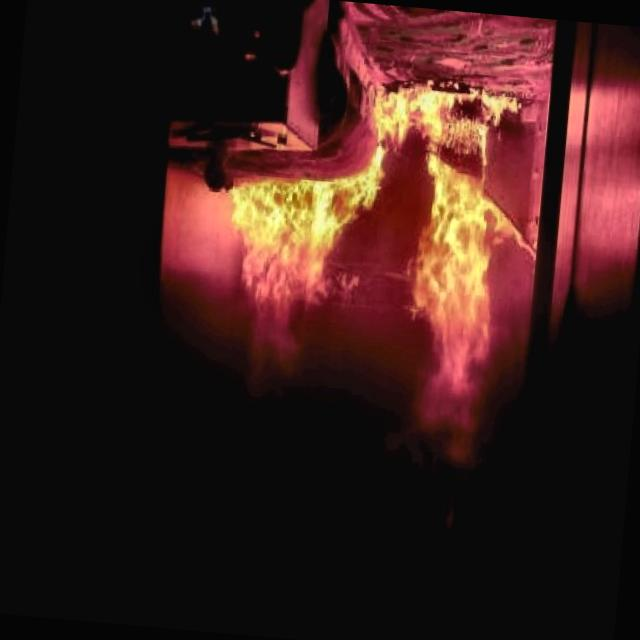fire: (142, 25, 560, 500)
